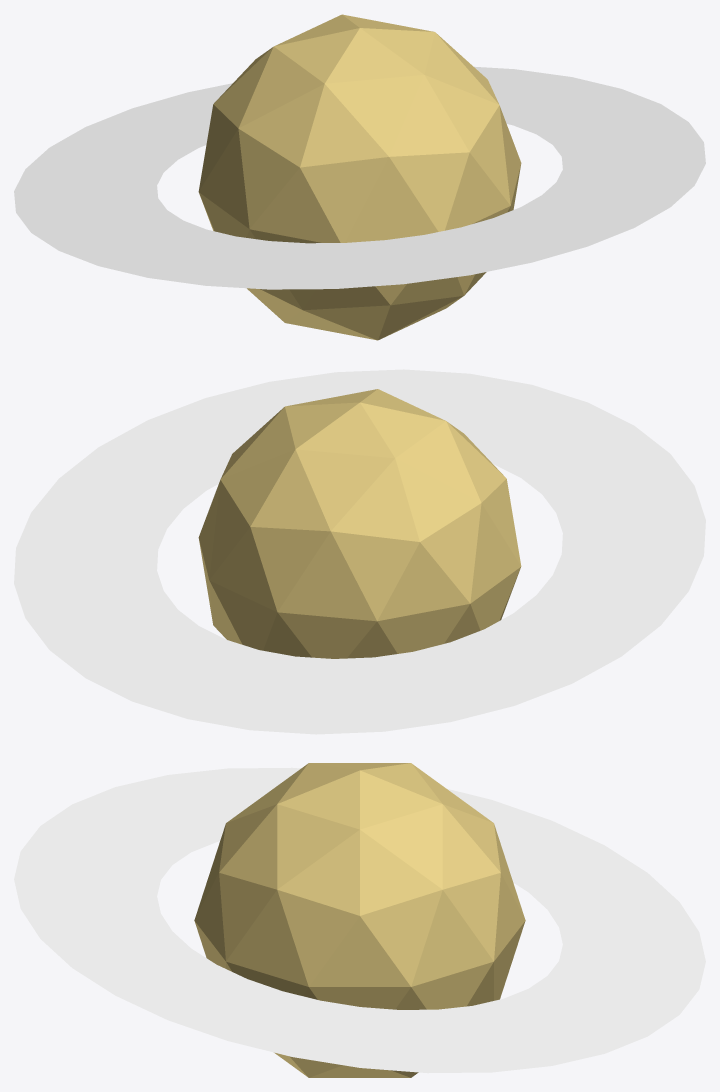
Rendered from Saturn.glb.
The picture shows the model from 3 angles, top to bottom: view 1: azimuth 30°, elevation 25°; view 2: azimuth 150°, elevation 25°; view 3: azimuth 270°, elevation 25°; orthographic projection.
Visible parts, largest first — view 1: Icosphere, Circle; view 2: Circle, Icosphere; view 3: Circle, Icosphere.
Boxes of the visible parts, left/top/right/bottom form: Icosphere: left=198, top=14, right=521, bottom=340; Circle: left=14, top=66, right=705, bottom=289; Circle: left=14, top=369, right=705, bottom=734; Icosphere: left=198, top=389, right=521, bottom=658; Circle: left=14, top=767, right=705, bottom=1073; Icosphere: left=194, top=763, right=525, bottom=1077.
Size of the model in its own units: 4.21 by 2 by 4.18.
